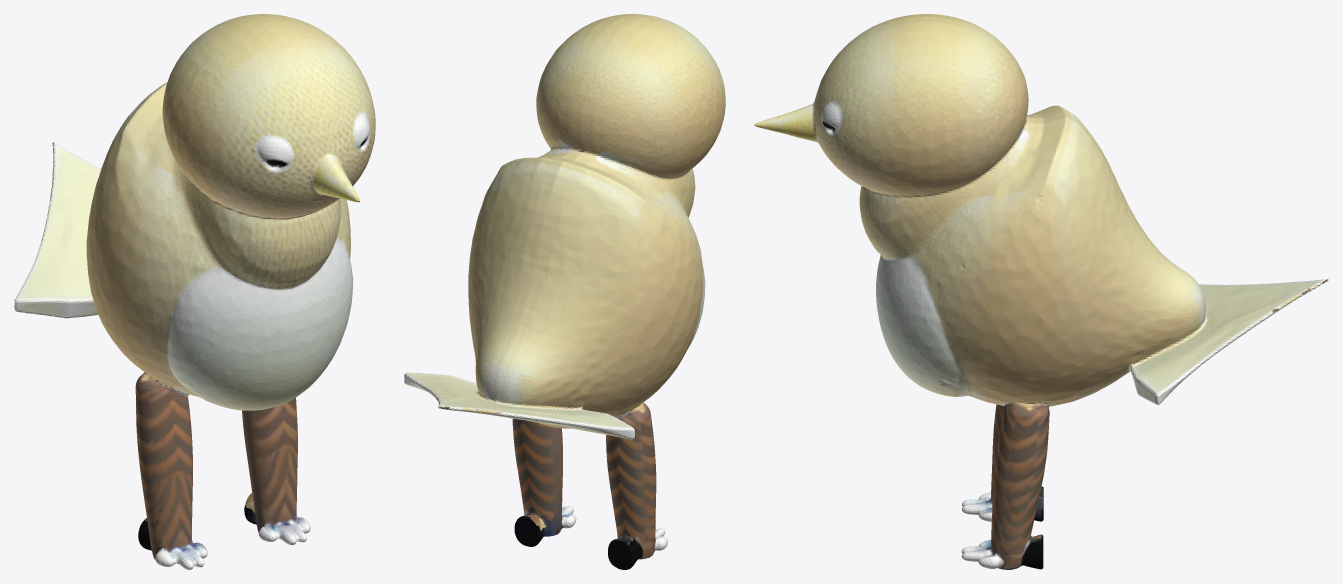
The model's file is creature-075.glb.
3 views of the same model, side by side, from view 1: azimuth 30°, elevation 25°; view 2: azimuth 150°, elevation 25°; view 3: azimuth 270°, elevation 25° (orthographic). The views are drawn at different scales.
Visible parts, largest first — view 1: tmp8ct7wd8g.ply; view 2: tmp8ct7wd8g.ply; view 3: tmp8ct7wd8g.ply.
Boxes of the visible parts, bbox=[...] form: tmp8ct7wd8g.ply: bbox=[14, 14, 375, 569]; tmp8ct7wd8g.ply: bbox=[404, 14, 725, 569]; tmp8ct7wd8g.ply: bbox=[754, 14, 1328, 569].
Bounding box in the file's own units: 0.9706 × 1.99 × 1.99.
1 material, 1 textured.
